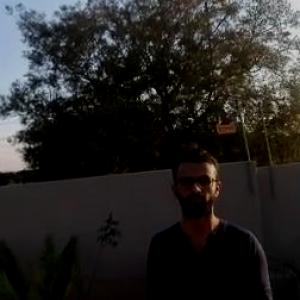follow: (137, 140, 277, 299)
